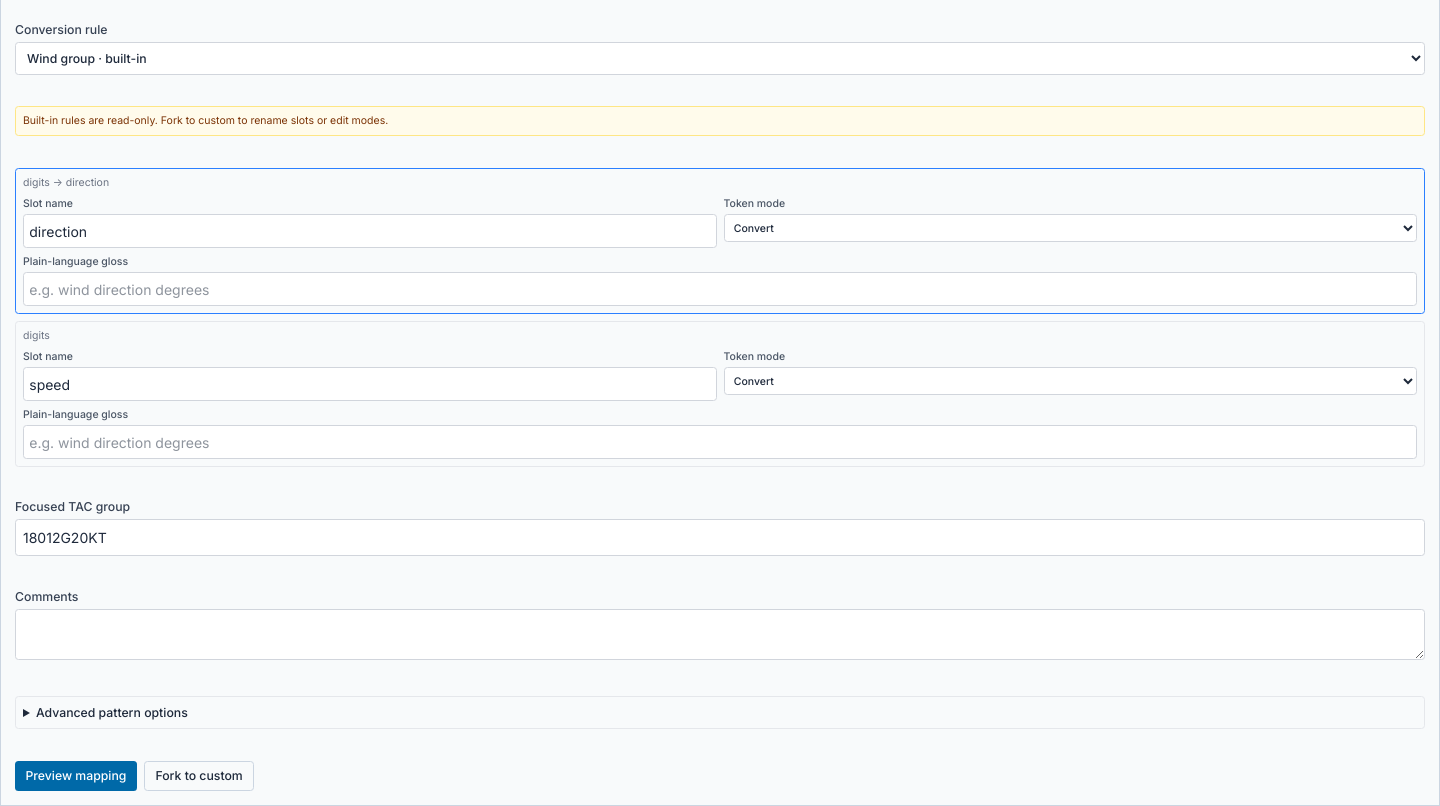
Test case: ConversionTemplatesPanel › loads templates and previews mapping
(page scrolled)
Expected: the dropdown with test id "conversion-templates-select" is shown, x1=15 y1=42 x2=1425 y2=75
What coordinates should you click on to do the following:
click the button with test id "conversion-templates-preview"
I would click on:
 (76, 776)
Its box is x1=15 y1=761 x2=137 y2=791.
(page scrolled)
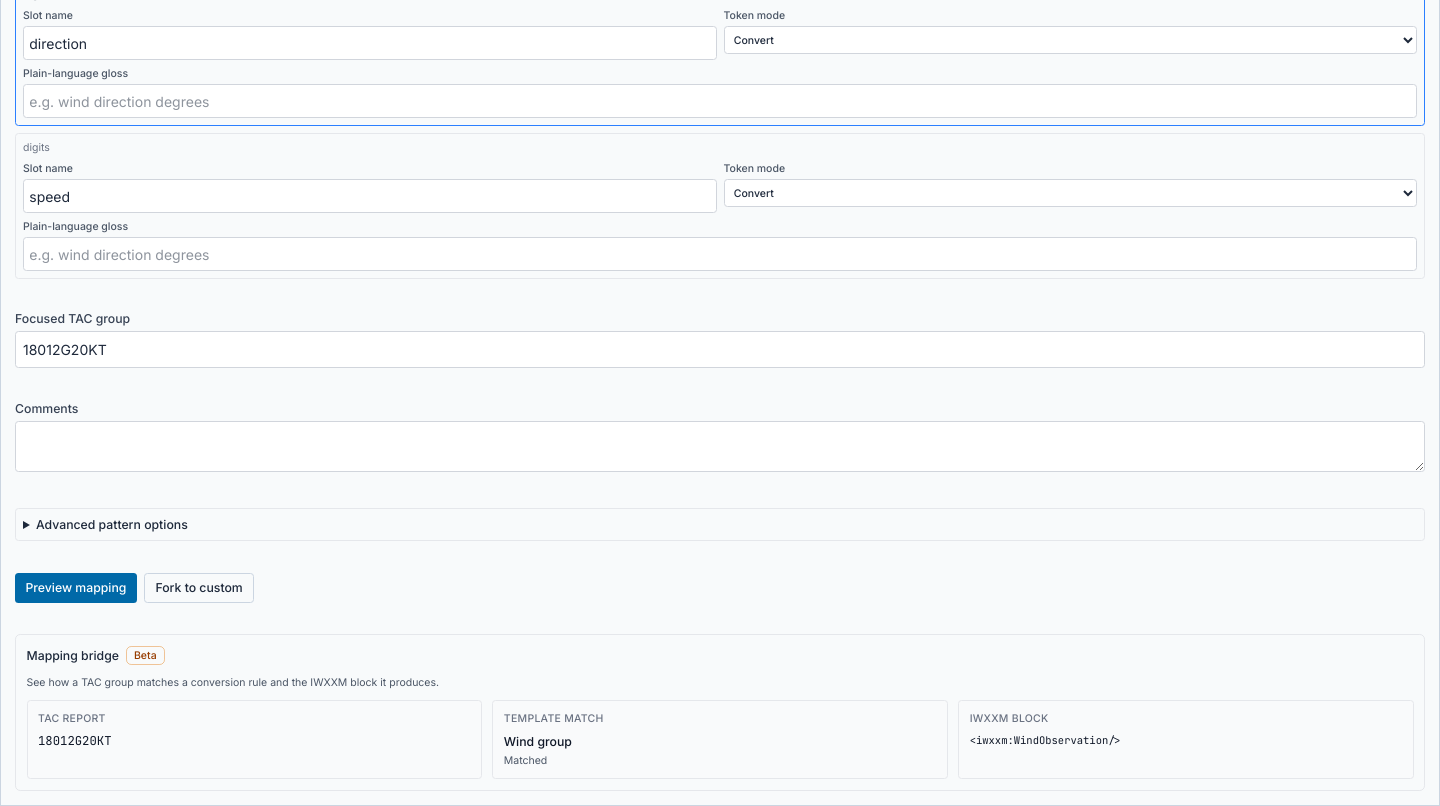
Result: the element with test id "conversion-templates-preview-result" shows "WindObservation" at x1=970 y1=733 x2=1121 y2=747
